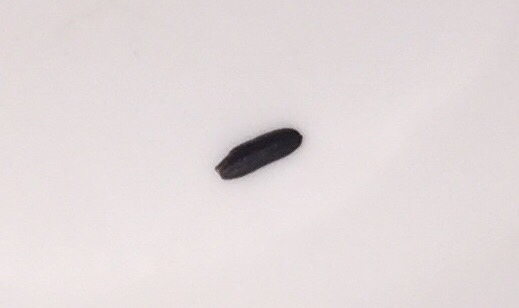Gao Nep Cam: (212, 124, 303, 182)
